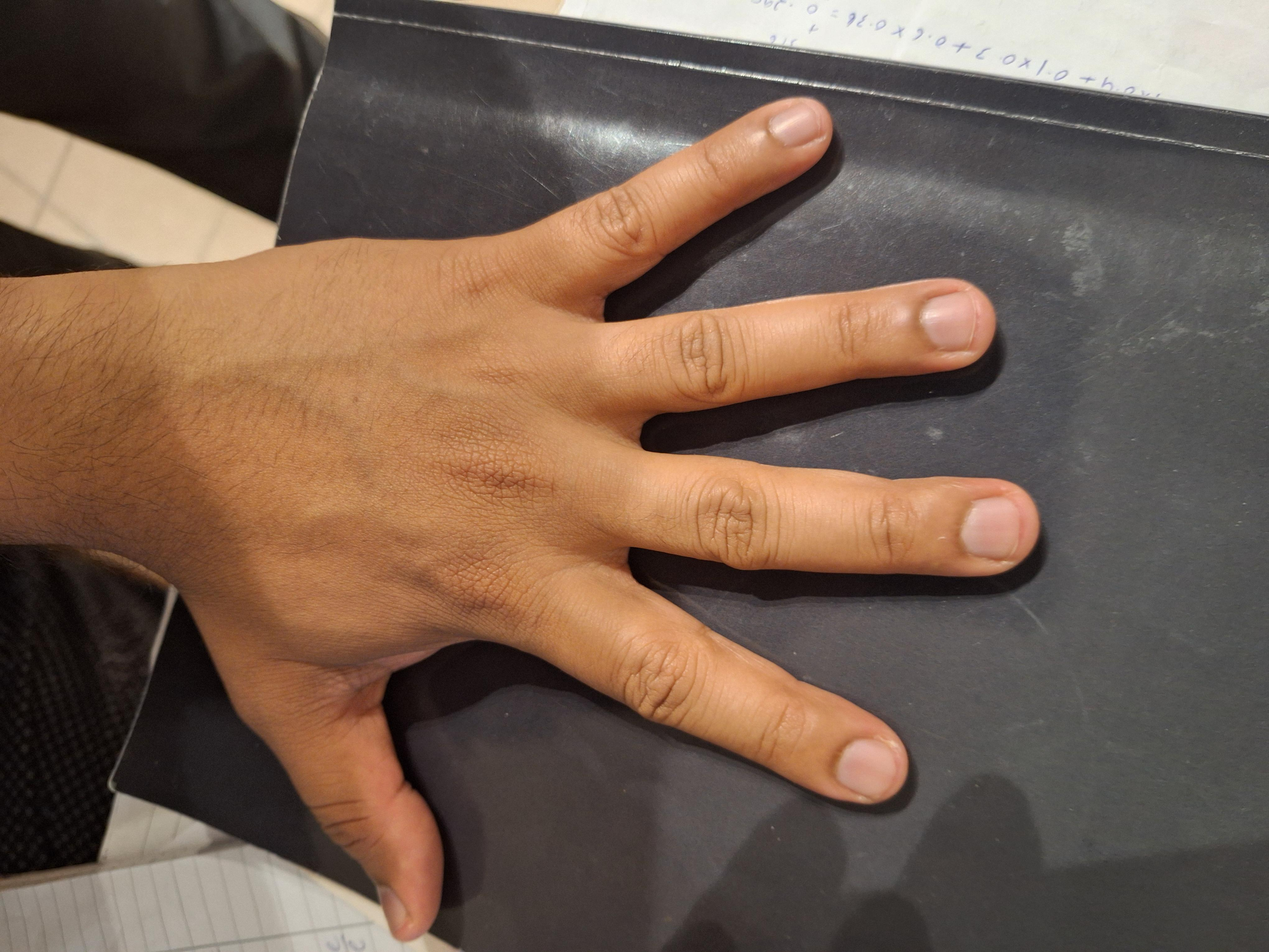Fingernail: (960, 496, 1019, 561), (836, 739, 896, 800), (921, 290, 975, 351), (770, 105, 820, 147), (378, 886, 408, 932)
